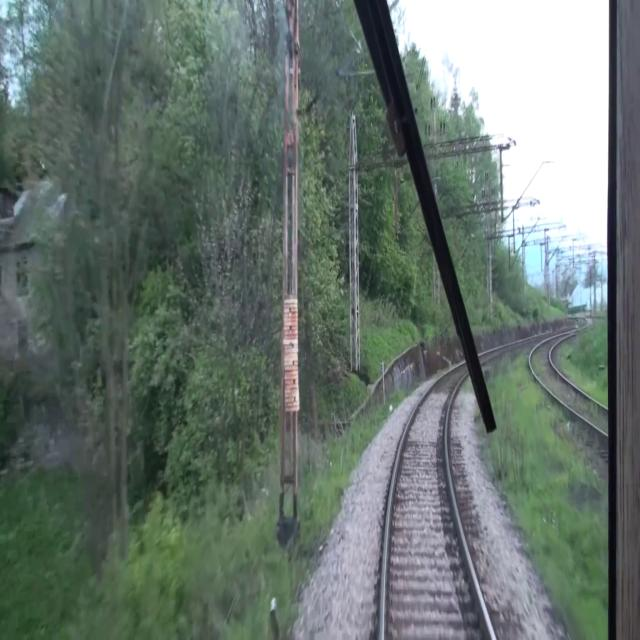rail-track: (384, 366, 492, 639), (549, 378, 604, 428)
